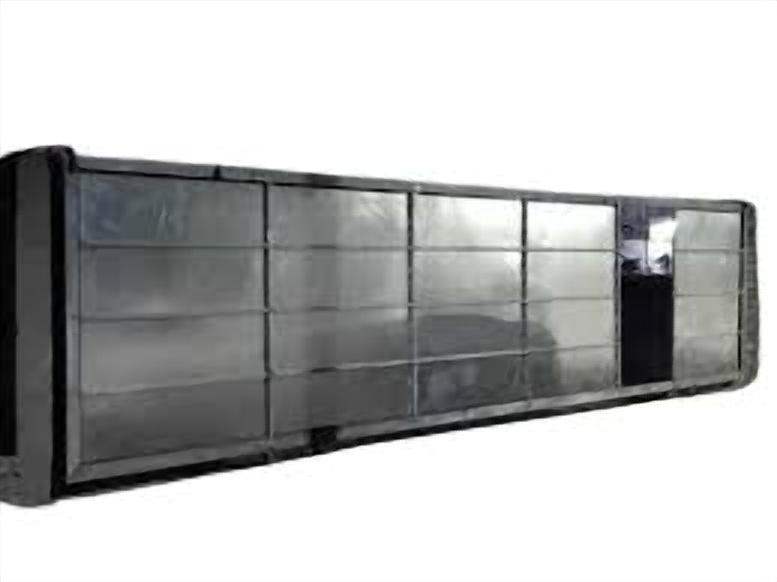Gate: (0, 143, 759, 507)
